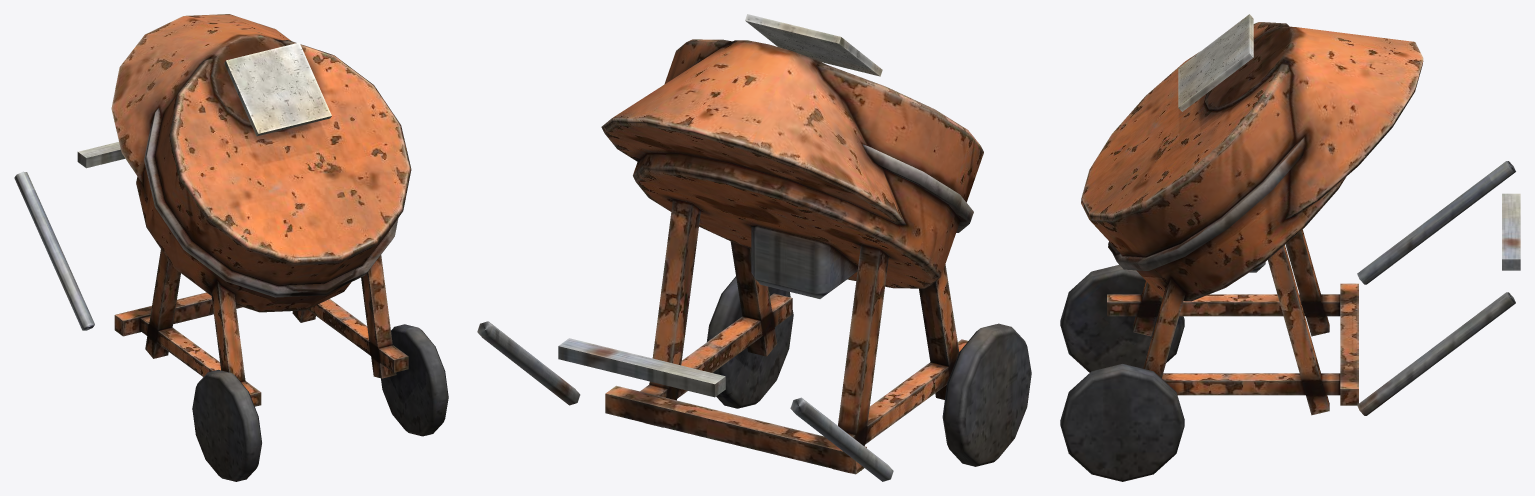
The model's file is betoneira.glb.
3 renders of one model, left to right at view 1: azimuth 30°, elevation 25°; view 2: azimuth 150°, elevation 25°; view 3: azimuth 270°, elevation 25°, orthographic. The views are drawn at different scales.
Parts seen in each view (by area): view 1: betoneira; view 2: betoneira; view 3: betoneira.
Boxes of the visible parts, box(x1,y1,x2,y2) form: betoneira: box(14, 14, 448, 481); betoneira: box(477, 14, 1031, 481); betoneira: box(1060, 14, 1520, 481).
Size of the model in its own units: 1.04 by 1.4 by 1.48.
1 material, 1 textured.
